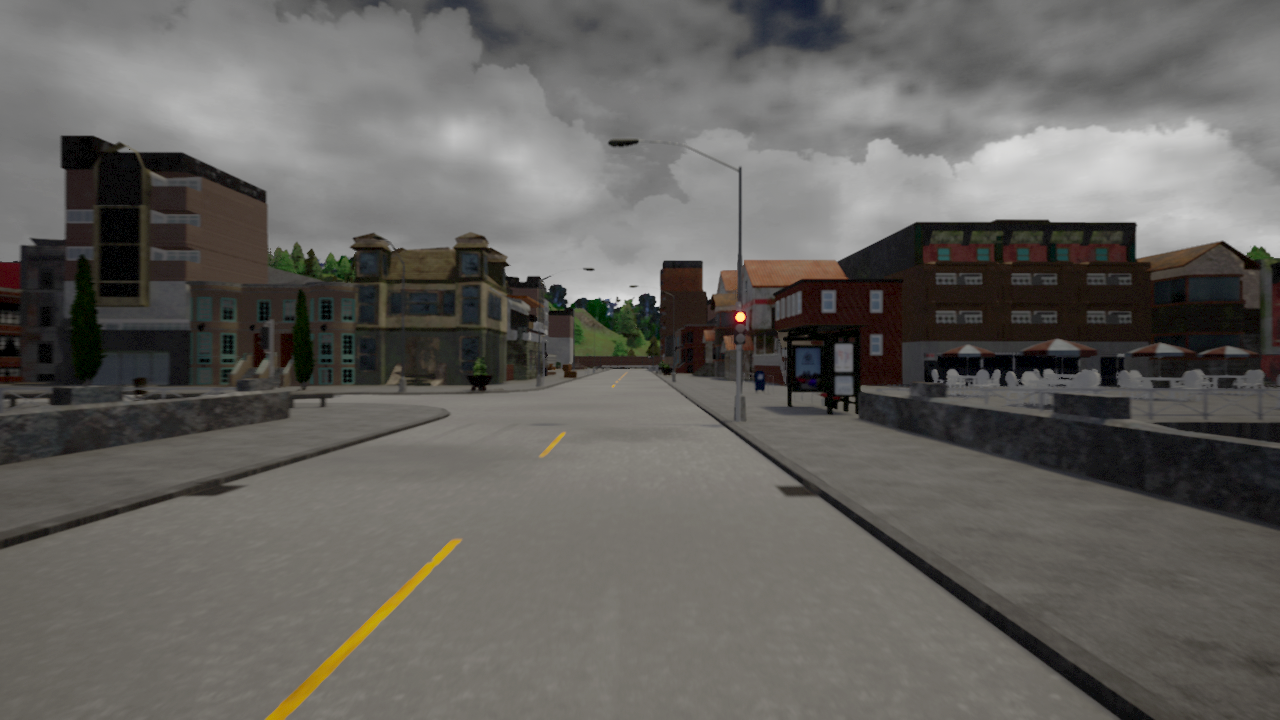red: (733, 309, 748, 346)
